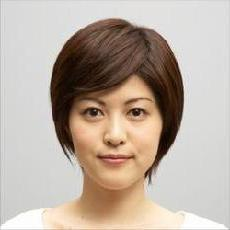Sober: (79, 72, 159, 182)
